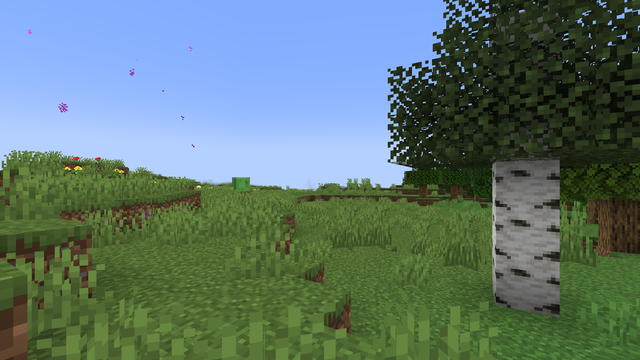slimes: (230, 176, 251, 190)
